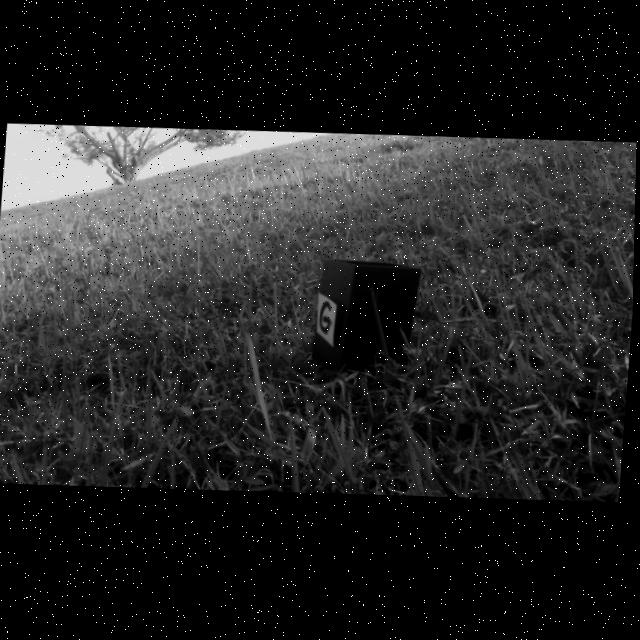G: (322, 303, 333, 335)
